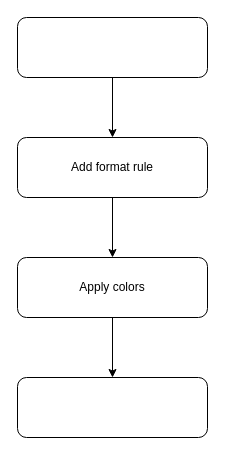
Some shapes in this 225 by 455 pixel diagram are drawn without their labels. The centre of each missing label's shape, as x and y in pixels:
"End" goes at point 112,407.
"Start Select range" goes at point 112,47.
